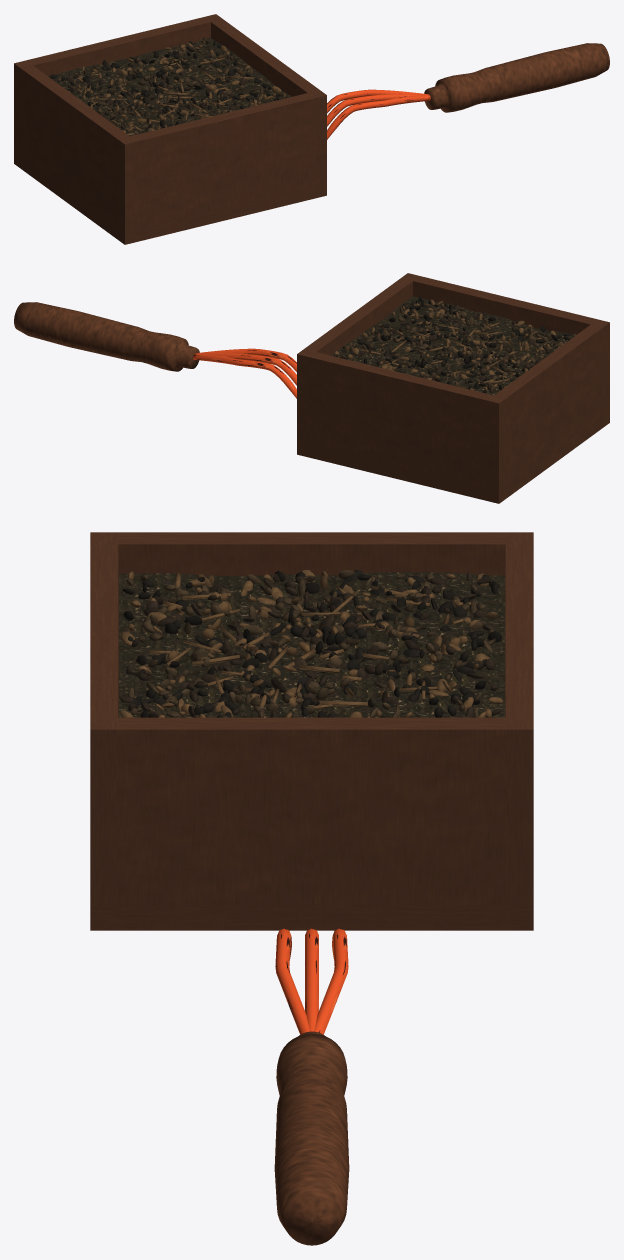
Rendered from alimentacao_21_web.glb.
3 views of the same model, one above another, from view 1: azimuth 30°, elevation 25°; view 2: azimuth 150°, elevation 25°; view 3: azimuth 270°, elevation 25° (orthographic). The views are drawn at different scales.
Visible parts, largest first — view 1: Caixa_de_Madeira, Vermicomposto, Garfo_de_Jardinagem; view 2: Caixa_de_Madeira, Vermicomposto, Garfo_de_Jardinagem; view 3: Caixa_de_Madeira, Vermicomposto, Garfo_de_Jardinagem.
Boxes of the visible parts, left/top/right/bottom form: Caixa_de_Madeira: left=14, top=14, right=326, bottom=244; Vermicomposto: left=49, top=37, right=291, bottom=136; Garfo_de_Jardinagem: left=327, top=43, right=609, bottom=139; Caixa_de_Madeira: left=297, top=273, right=609, bottom=503; Vermicomposto: left=331, top=296, right=575, bottom=395; Garfo_de_Jardinagem: left=14, top=302, right=296, bottom=398; Caixa_de_Madeira: left=90, top=532, right=533, bottom=930; Vermicomposto: left=119, top=570, right=504, bottom=717; Garfo_de_Jardinagem: left=274, top=928, right=349, bottom=1245.
Bounding box in the file's own units: 0.53 × 0.095 × 0.19.
Materials: 5 (5 with a texture image).
